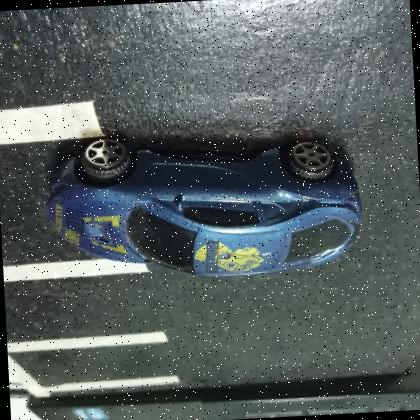Car: (38, 122, 368, 291)
